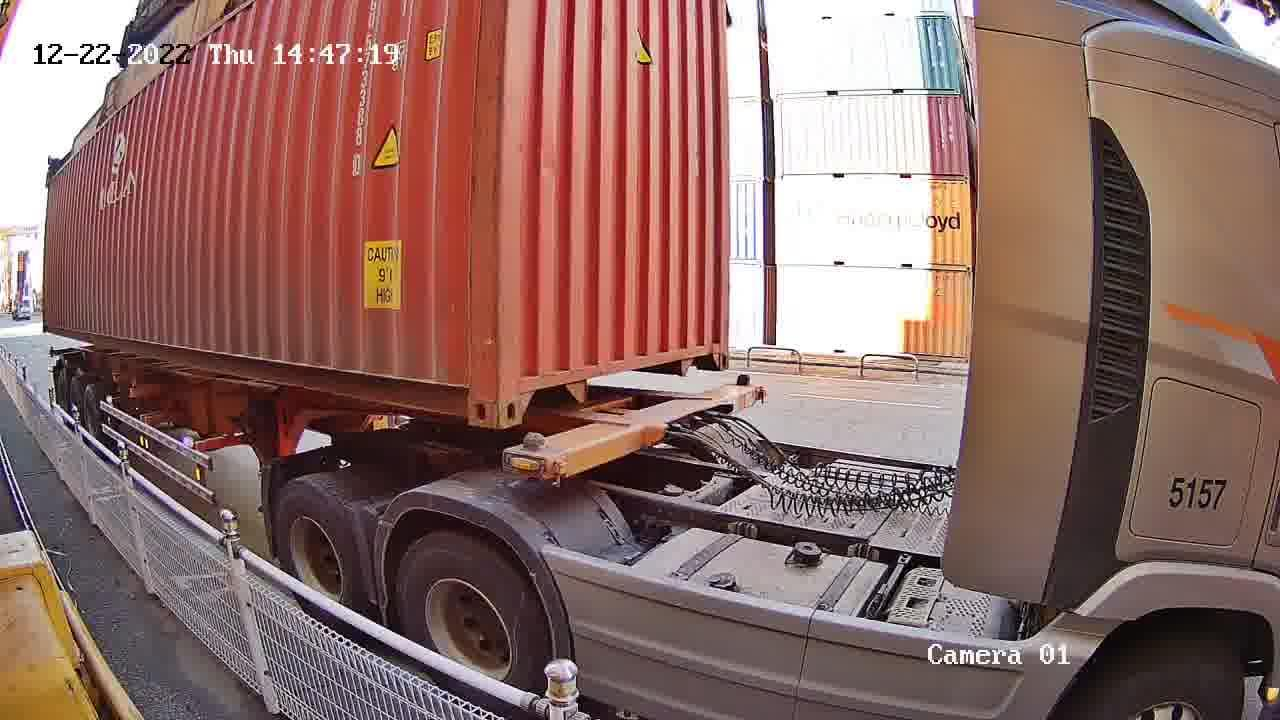Chassis: (503, 383, 764, 479)
Cone: (512, 432, 553, 488), (734, 374, 753, 389)
Hole_L: (501, 354, 553, 432)
Hole_R: (440, 361, 500, 428), (695, 322, 730, 379)
Tire: (395, 528, 549, 691), (269, 482, 361, 606)
